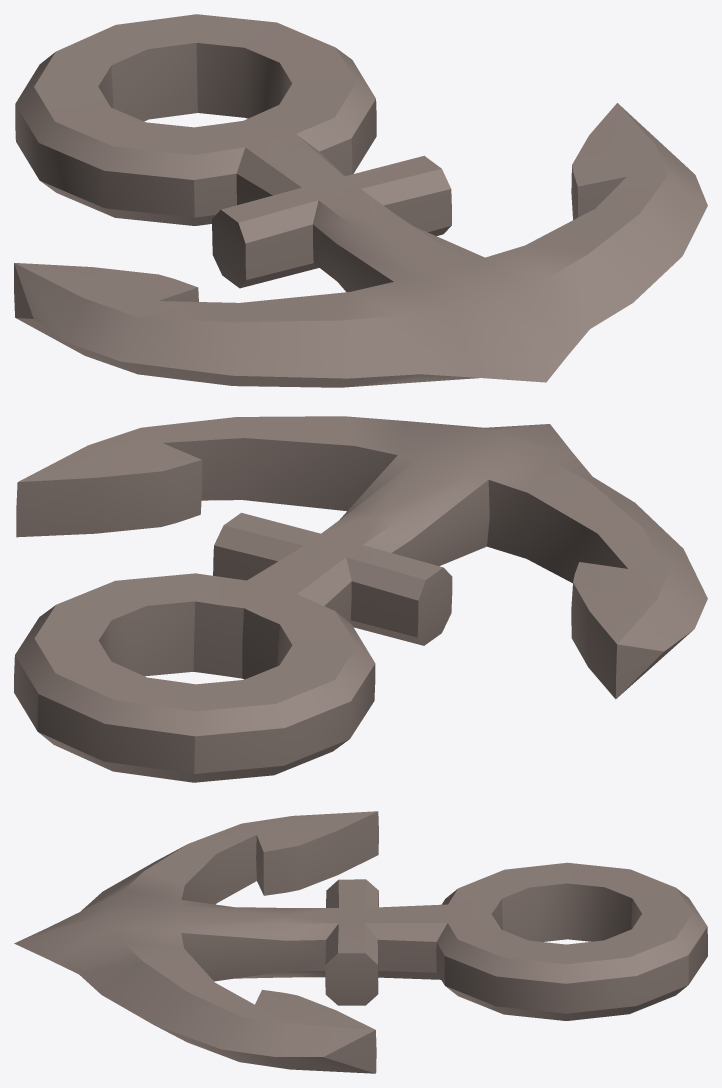
The model's file is prop-anchor.glb.
3 renders of one model, top to bottom at view 1: azimuth 30°, elevation 25°; view 2: azimuth 150°, elevation 25°; view 3: azimuth 270°, elevation 25°, orthographic. The views are drawn at different scales.
Visible parts, largest first — view 1: Prop_Anchor; view 2: Prop_Anchor; view 3: Prop_Anchor.
Part boxes in pixels (x1,y1,x2,y2): Prop_Anchor: (14,14,707,387); Prop_Anchor: (14,416,707,782); Prop_Anchor: (14,811,707,1073).
Size of the model in its own units: 0.7807 by 0.0932 by 0.9507.
Materials: 1 (1 with a texture image).
